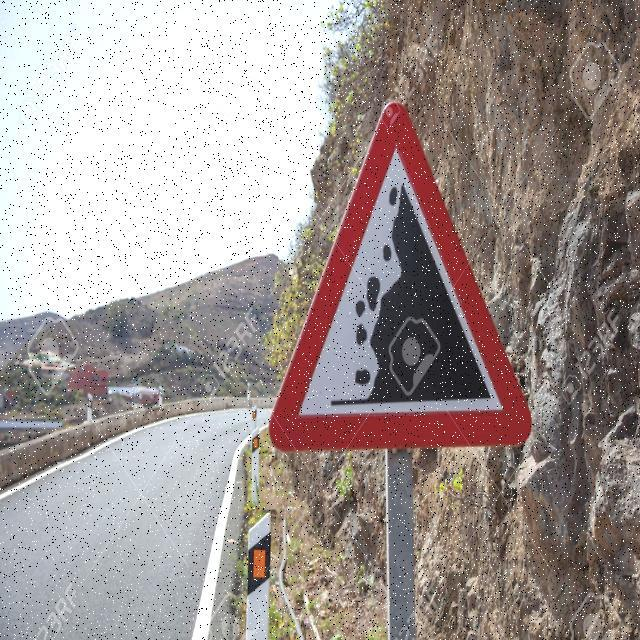Traffic sign: (267, 96, 538, 459)
